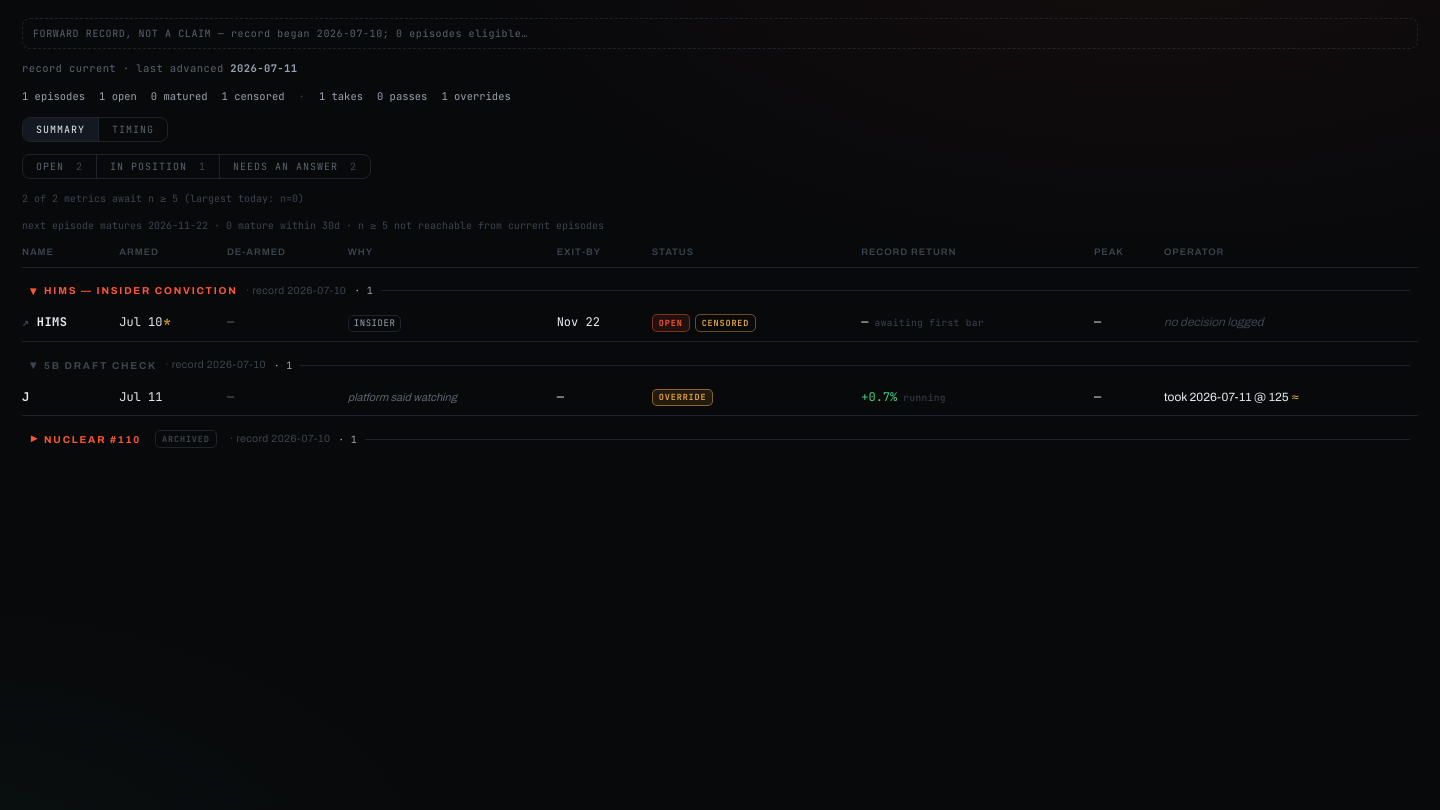
Test: Scoreboard › a row click opens the scorecard drawer WITHOUT navigating to the Cockpit
The image size is (1440, 810).
Click the text "awaiting first bar" at (720, 322), box 22,304 -> 1418,342
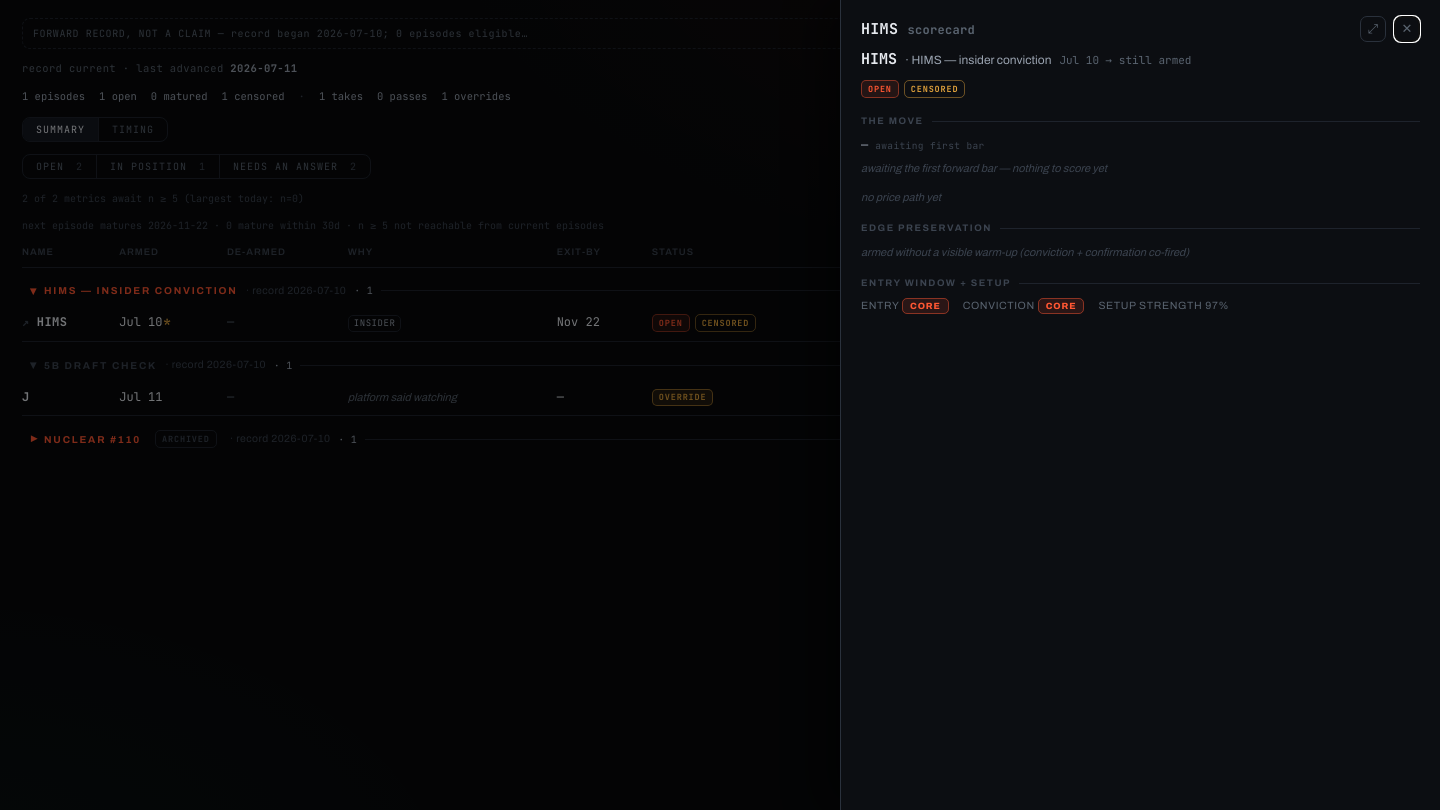
Result: the dialog with class "drawer-panel" is shown at 840,0 -> 1439,809
Result: the text "The move" is shown at 861,116 -> 924,126
Result: the element with class "drawer-title" shows "HIMS" at 861,19 -> 898,39
